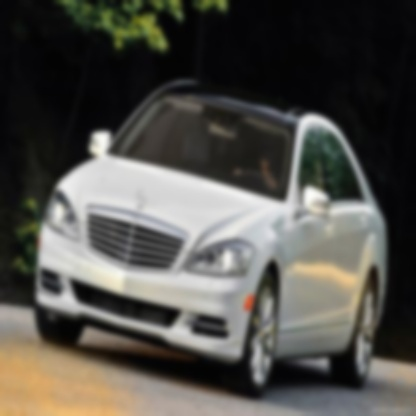Vehicle: (34, 77, 390, 394)
